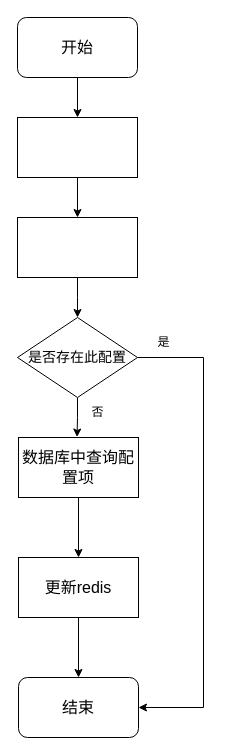
Some shapes in this 229 by 755 pixel diagram are drawn without their labels. Each missing label, with the centre of its shape:
redis查询配置项: (77,247)
获取配置: (77,147)
